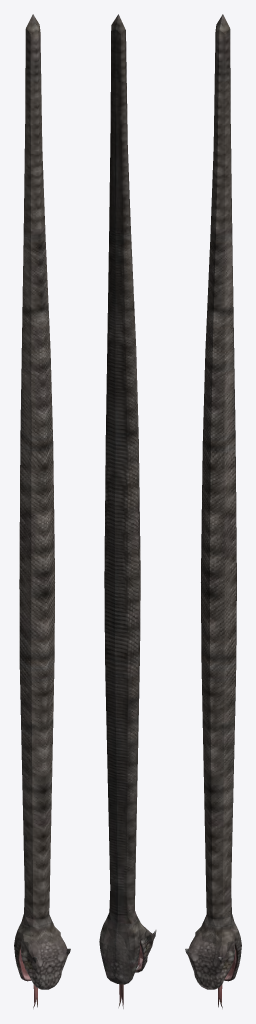
Rendered from giant_viper.glb.
3 views of the same model, side by side, from view 1: azimuth 30°, elevation 25°; view 2: azimuth 150°, elevation 25°; view 3: azimuth 330°, elevation 25° (orthographic).
Visible parts, largest first — view 1: giant_viper.obj; view 2: giant_viper.obj; view 3: giant_viper.obj.
Part boxes in pixels (x1=…): giant_viper.obj: x1=14, y1=14, x2=70, y2=1008; giant_viper.obj: x1=99, y1=14, x2=156, y2=1008; giant_viper.obj: x1=185, y1=14, x2=241, y2=1008.
Bounding box in the file's own units: 0.04 × 1 × 0.0448.
Materials: 1 (1 with a texture image).
